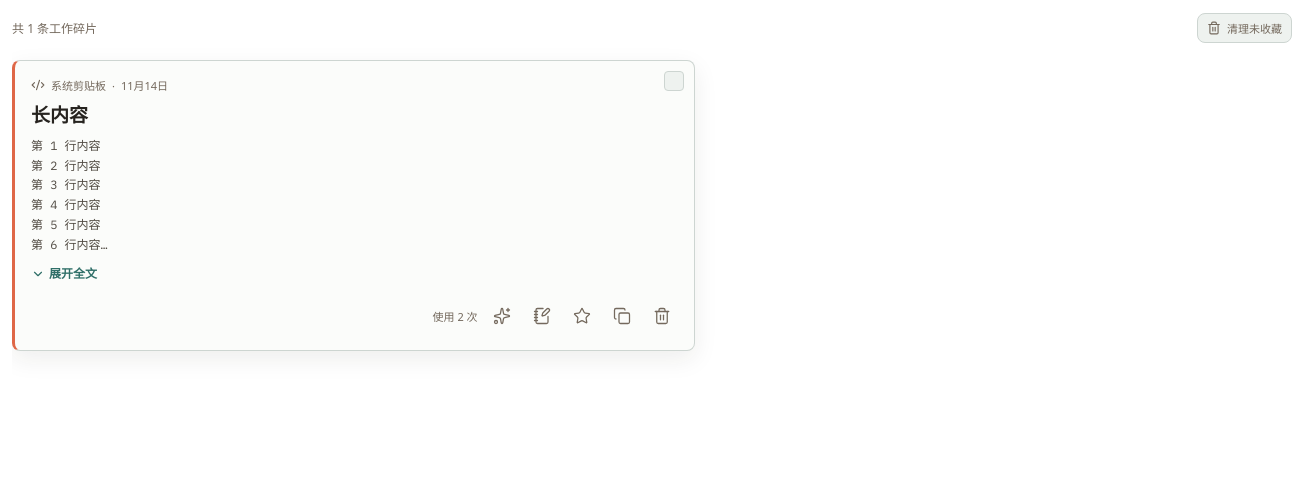
Test case: LibraryPanel › folds long clipboard text and can expand it
The image size is (1304, 489).
Click the button "展开全文".
click(64, 274)  # box [31,263,97,285]
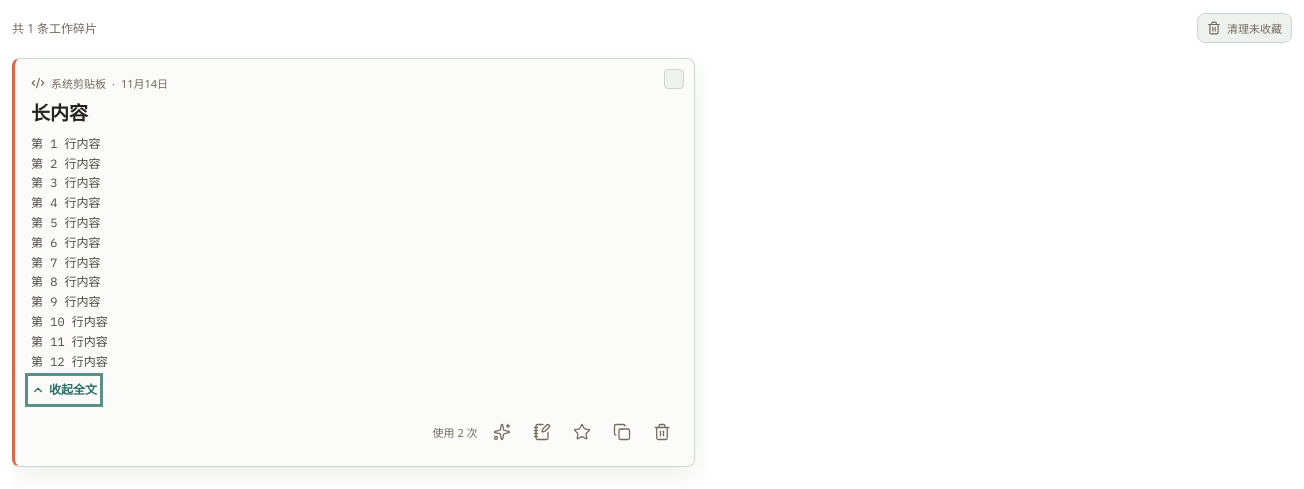
Expected: the button "收起全文" is expanded, [31,379,97,401]
